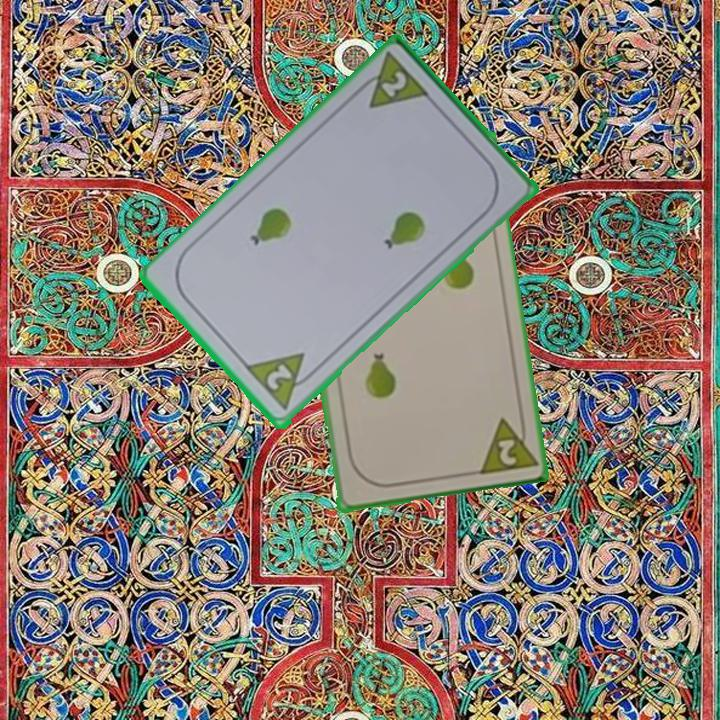2p: (242, 349, 322, 415), (351, 50, 434, 112), (473, 410, 538, 477)
